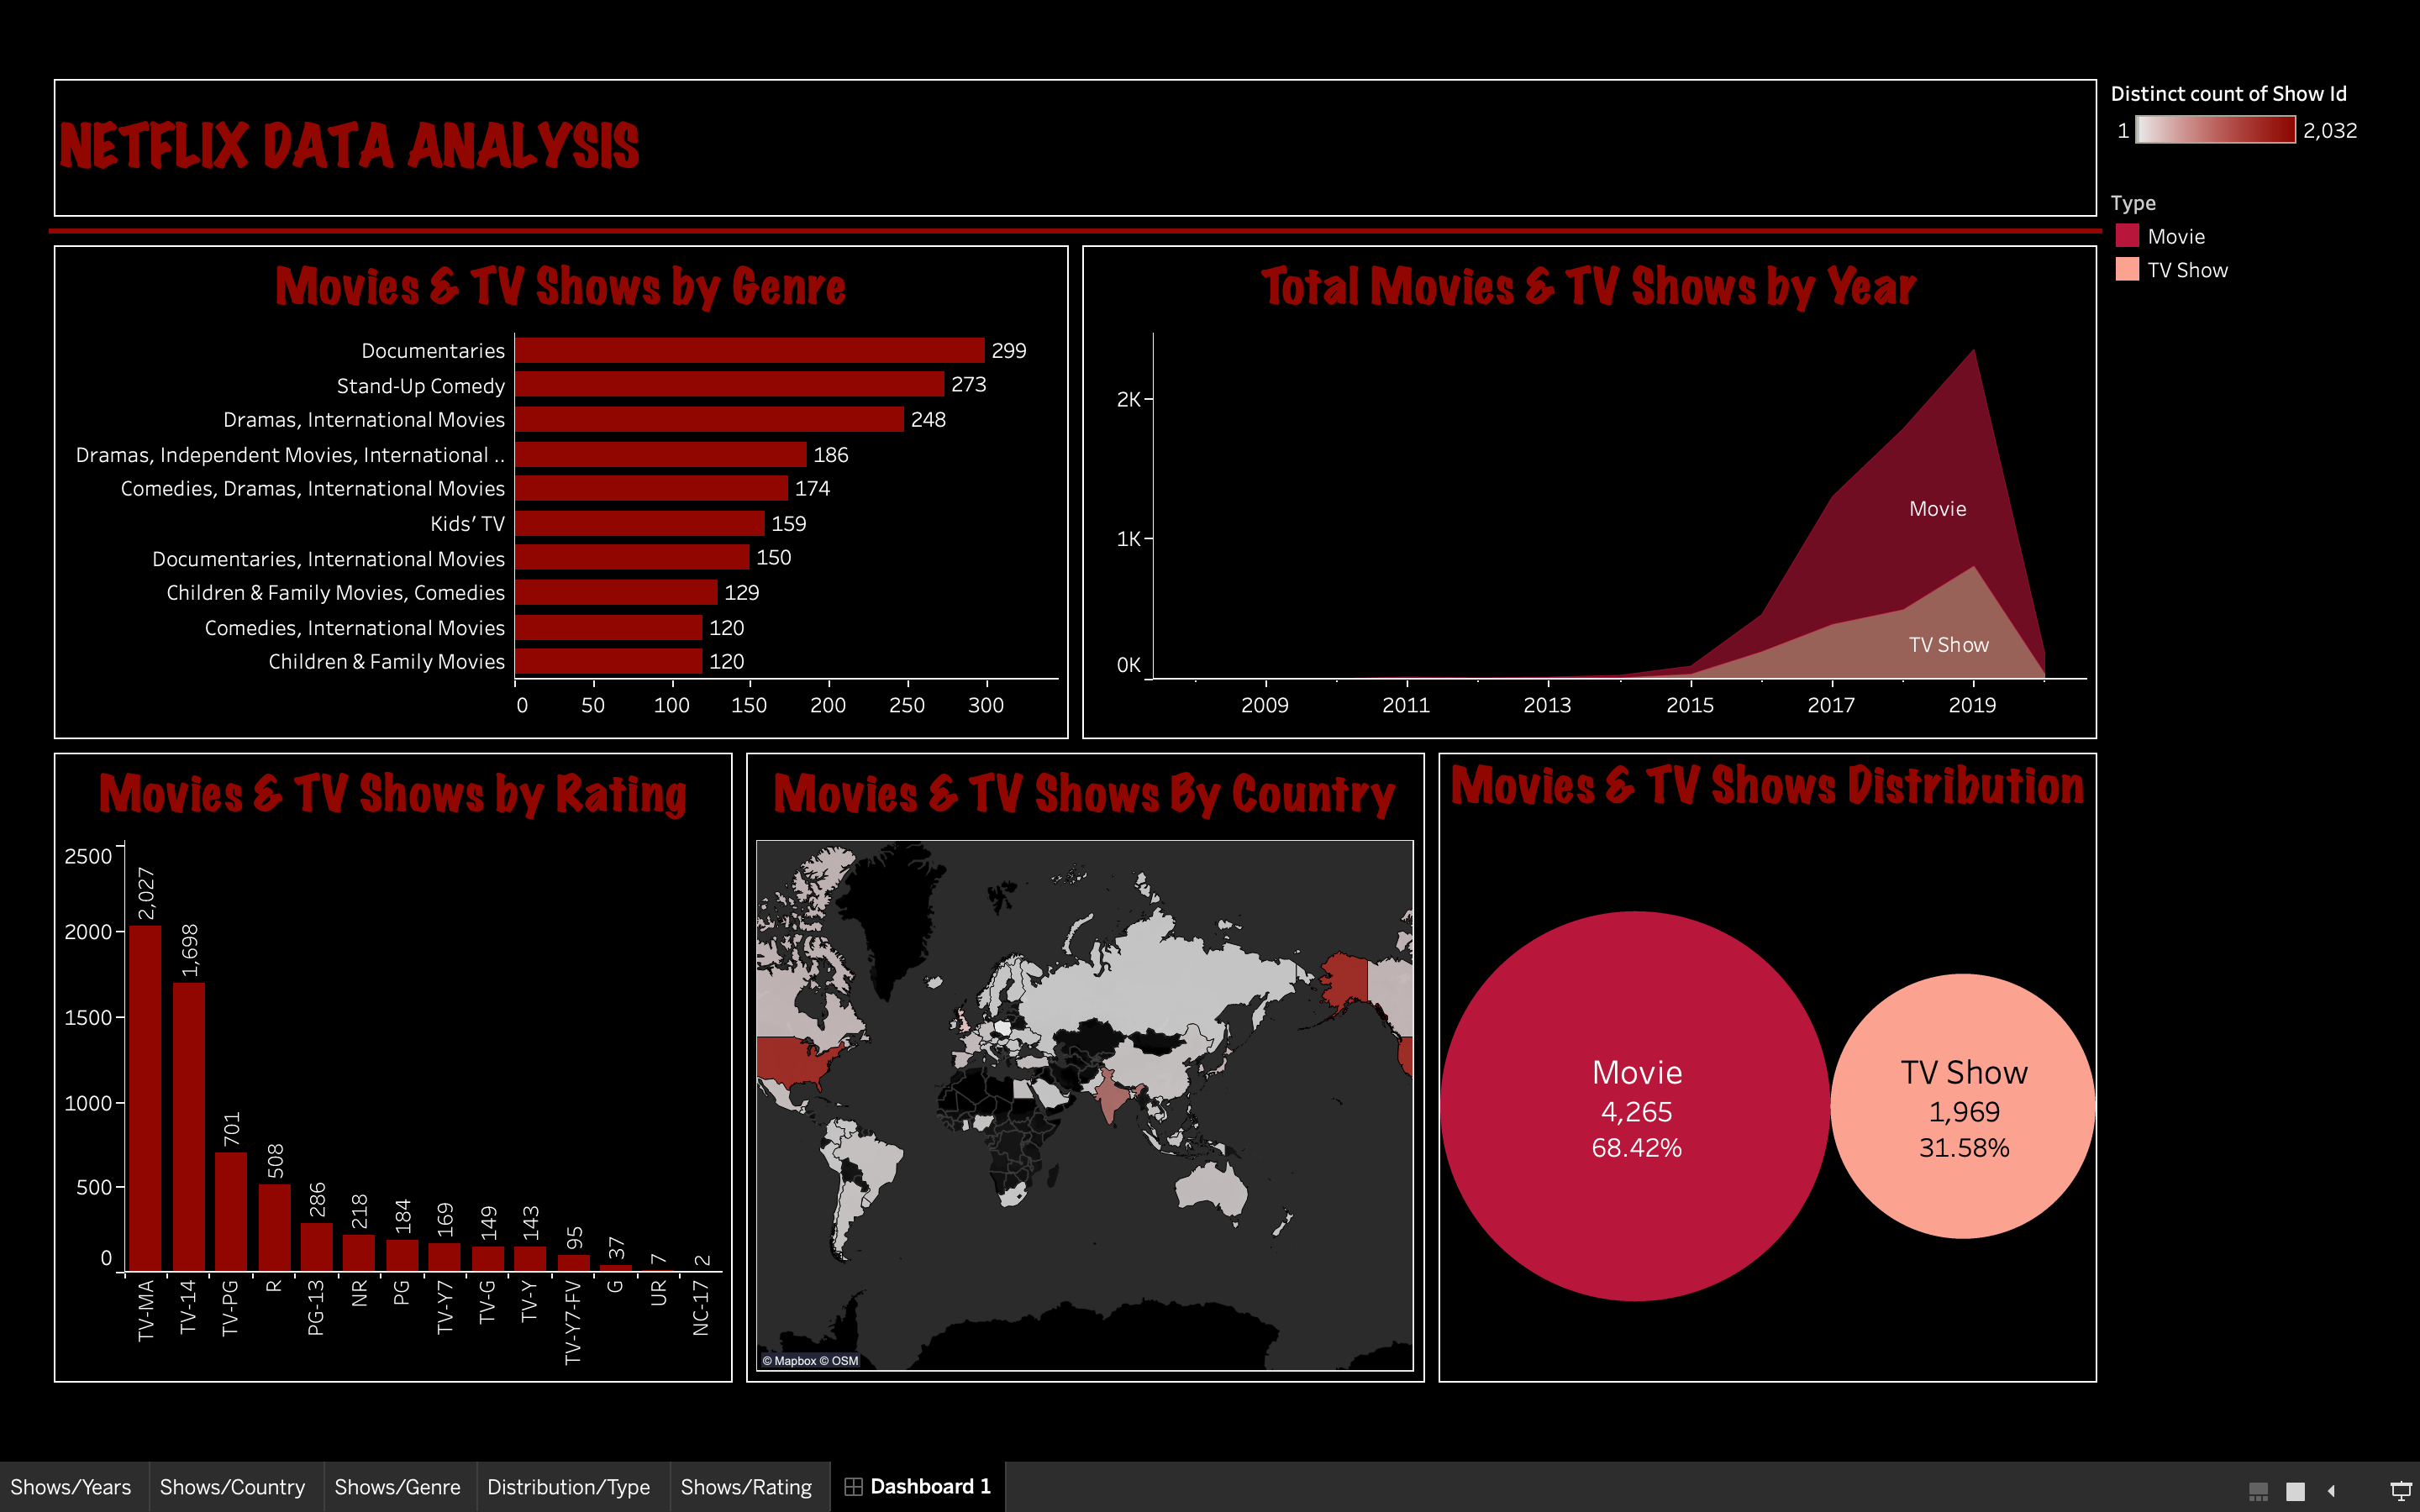

The page's visual inventory and layout, read from the dashboard file:
{"tool":"tableau","page":{"name":"Dashboard 1","canvas":[1400,800],"ordinal":0},"visuals":[{"type":"text","box":[8,8,1224,90]},{"type":"legend","title":"Shows/Country","param":"[federated.0jktut40bcdn7h17l9zlk1iwnn39].[ctd:show_id:qk]","box":[1232,8,160,65]},{"type":"legend","title":"Distribution/Type","param":"[federated.0jktut40bcdn7h17l9zlk1iwnn39].[none:type:nk]","box":[1232,73,160,66]},{"type":"blank","box":[8,98,1224,9]},{"type":"worksheet","title":"Shows/Genre","mark":"Automatic","rows":["listed_in"],"cols":["show_id"],"box":[8,107,612,302]},{"type":"worksheet","title":"Shows/Years","mark":"Area","rows":["show_id"],"cols":["date_added"],"box":[620,107,612,302]},{"type":"worksheet","title":"Shows/Rating","mark":"Automatic","rows":["show_id"],"cols":["rating"],"box":[8,409,412,383]},{"type":"worksheet","title":"Shows/Country","mark":"Multipolygon","box":[420,409,412,383]},{"type":"worksheet","title":"Distribution/Type","mark":"Circle","box":[832,409,400,383]}]}

Visuals, with their boxes in screenshot pixels (x1, y1, x2, y2):
text: left=76, top=76, right=2089, bottom=224
"Shows/Country" legend: left=2089, top=76, right=2352, bottom=183
"Distribution/Type" legend: left=2089, top=183, right=2352, bottom=291
blank: left=76, top=224, right=2089, bottom=239
"Shows/Genre" worksheet: left=76, top=239, right=1082, bottom=735
"Shows/Years" worksheet (Area marks): left=1082, top=239, right=2089, bottom=735
"Shows/Rating" worksheet: left=76, top=735, right=754, bottom=1365
"Shows/Country" worksheet (Multipolygon marks): left=754, top=735, right=1431, bottom=1365
"Distribution/Type" worksheet (Circle marks): left=1431, top=735, right=2089, bottom=1365
